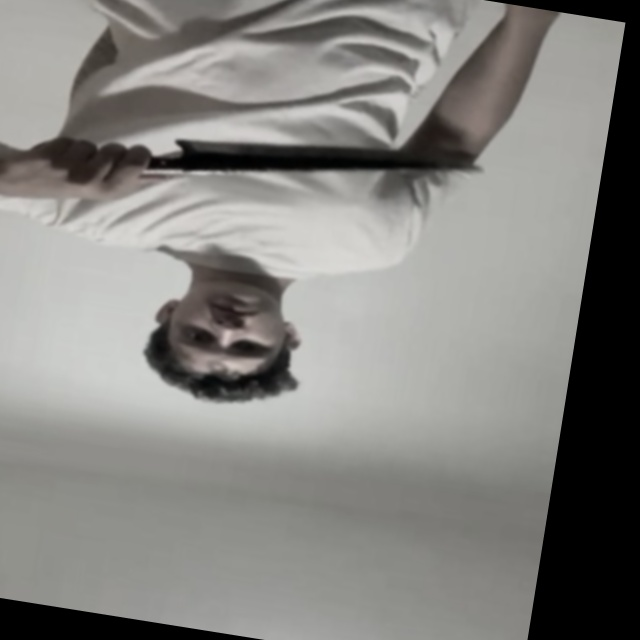Sharp-Object: (163, 118, 494, 223)
